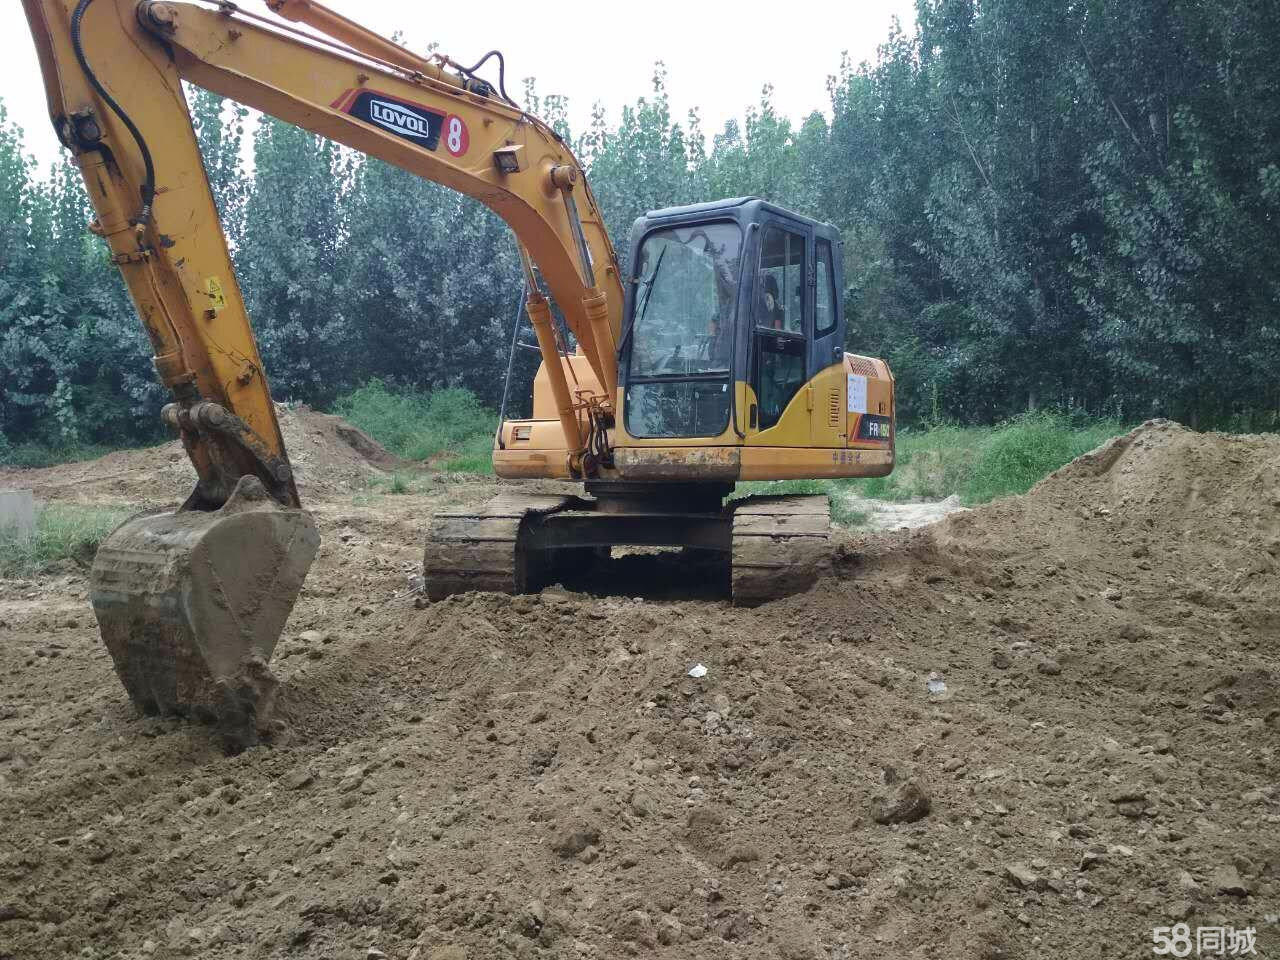excavator: (18, 1, 904, 771)
